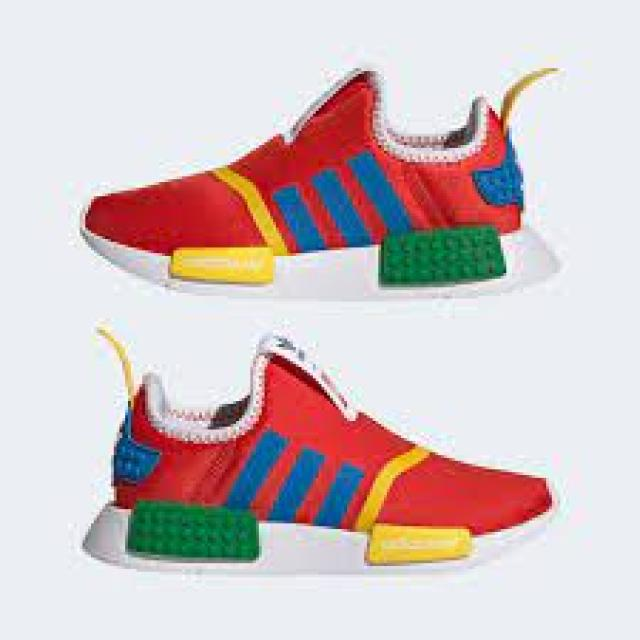shoe: (67, 317, 575, 583), (67, 60, 573, 306)
